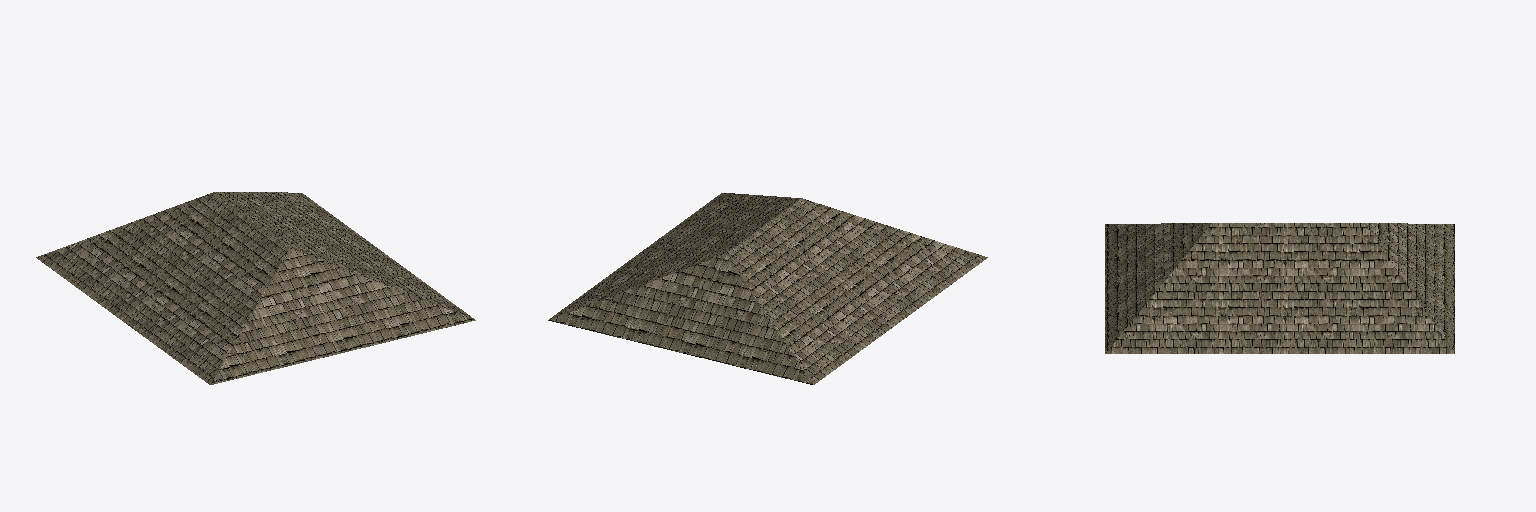
3 renders of one model, left to right at view 1: azimuth 30°, elevation 25°; view 2: azimuth 150°, elevation 25°; view 3: azimuth 270°, elevation 25°, orthographic.
Bounding box in the file's own units: 36.74 × 8.7 × 41.75.
Materials: 1 (1 with a texture image).